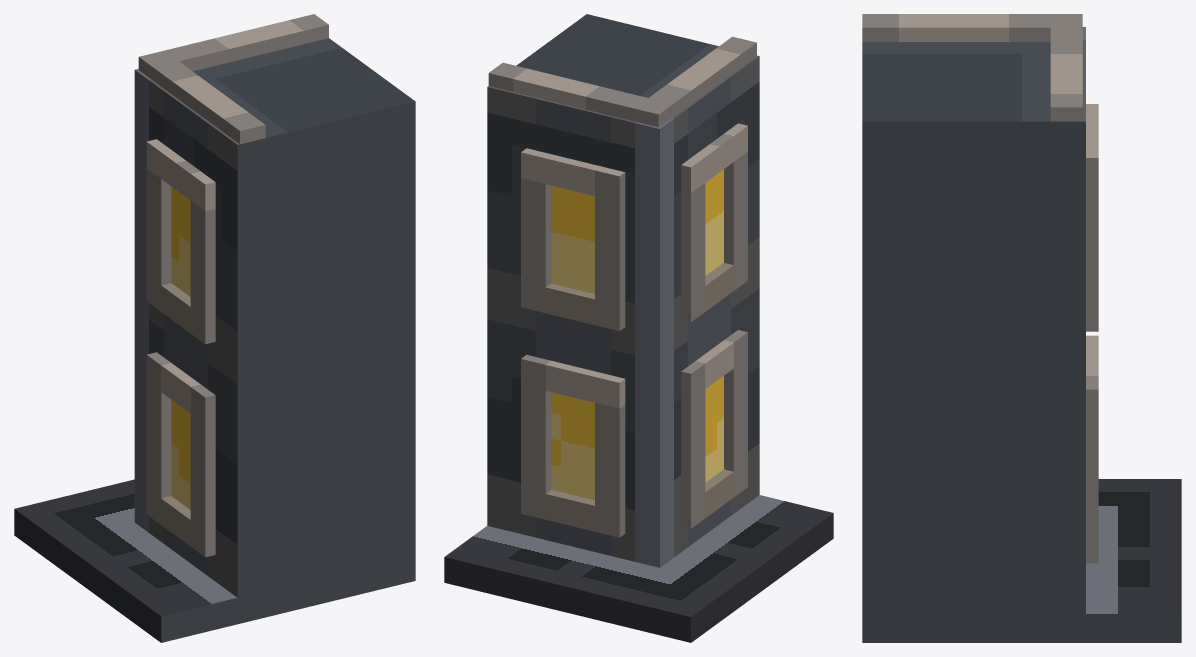
The model's file is SM_BuildingCorner.gltf.
3 renders of one model, left to right at view 1: azimuth 30°, elevation 25°; view 2: azimuth 150°, elevation 25°; view 3: azimuth 270°, elevation 25°, orthographic. The views are drawn at different scales.
Visible parts, largest first — view 1: cube (×12); view 2: cube (×20); view 3: cube (×8).
Part boxes in pixels (x1,y1,x2,y2): cube (×12): [14, 14, 415, 642]; cube (×20): [444, 14, 833, 642]; cube (×8): [862, 14, 1181, 642].
Bounding box in the file's own units: 0.625 × 1.16 × 0.625.
Materials: 2 (2 with a texture image).
